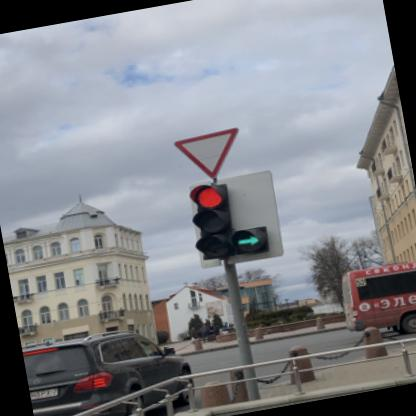trafficlight: (182, 174, 269, 262)
